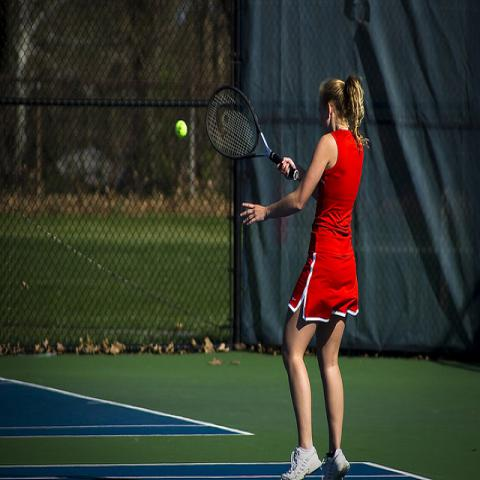car: (41, 146, 147, 194)
